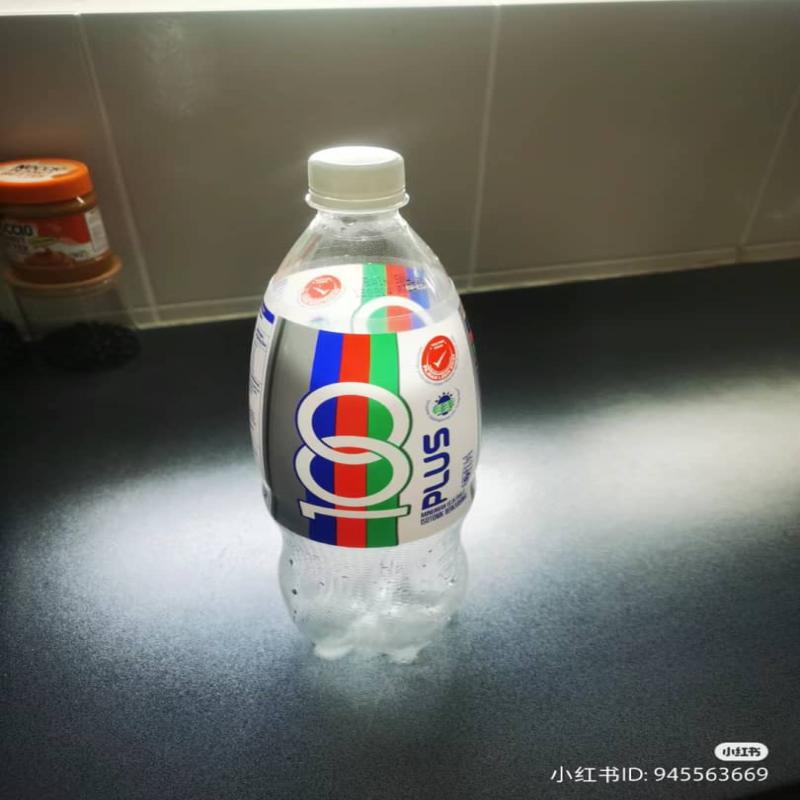botella: (258, 149, 488, 664)
